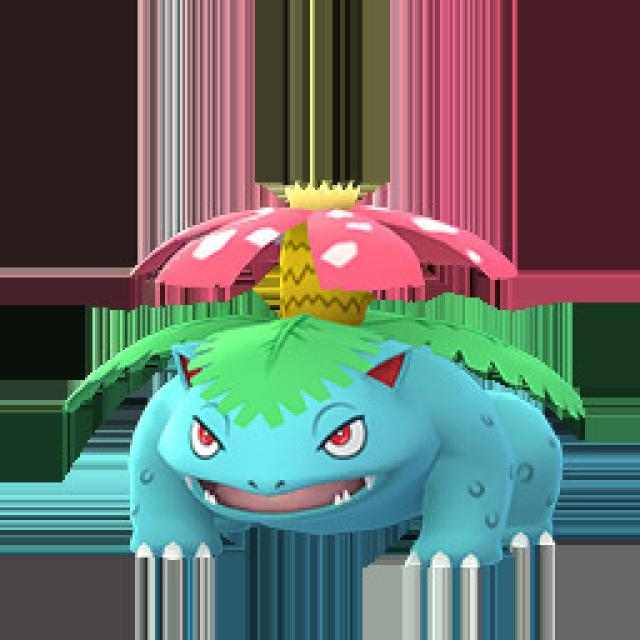Venusaur: (119, 185, 519, 590)
